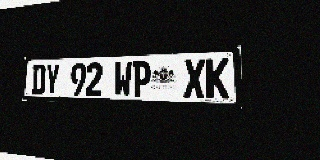2: (86, 62, 103, 96)
9: (70, 63, 86, 96)
D: (31, 64, 46, 95)
K: (206, 58, 229, 99)
P: (132, 60, 151, 97)
W: (114, 61, 132, 97)
X: (183, 59, 205, 98)
Y: (45, 64, 60, 95)
